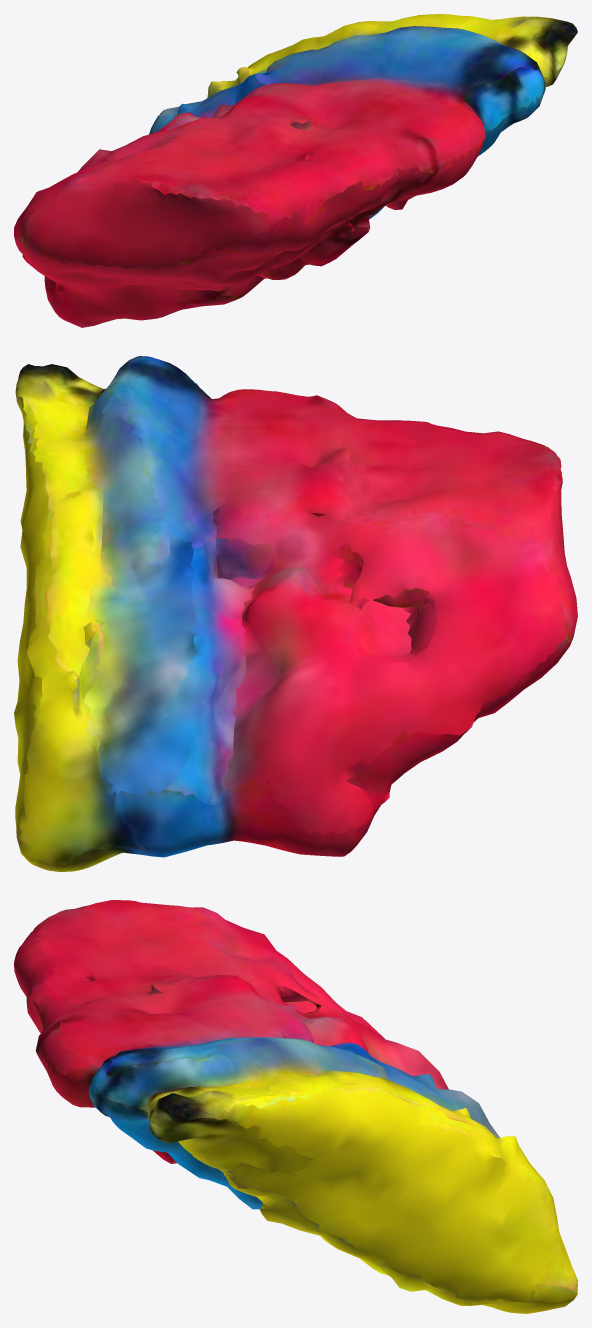
Rendered from 1_book.glb.
The picture shows the model from 3 angles, top to bottom: view 1: azimuth 30°, elevation 25°; view 2: azimuth 150°, elevation 25°; view 3: azimuth 270°, elevation 25°; orthographic projection. The views are drawn at different scales.
Visible parts, largest first — view 1: 1_book; view 2: 1_book; view 3: 1_book.
Boxes of the visible parts, x1,y1,x2,y2 form: 1_book: [14, 14, 577, 327]; 1_book: [14, 356, 577, 871]; 1_book: [14, 900, 577, 1313].
Bounding box in the file's own units: 0.3222 × 0.1763 × 0.2855.
Materials: 1 (1 with a texture image).
